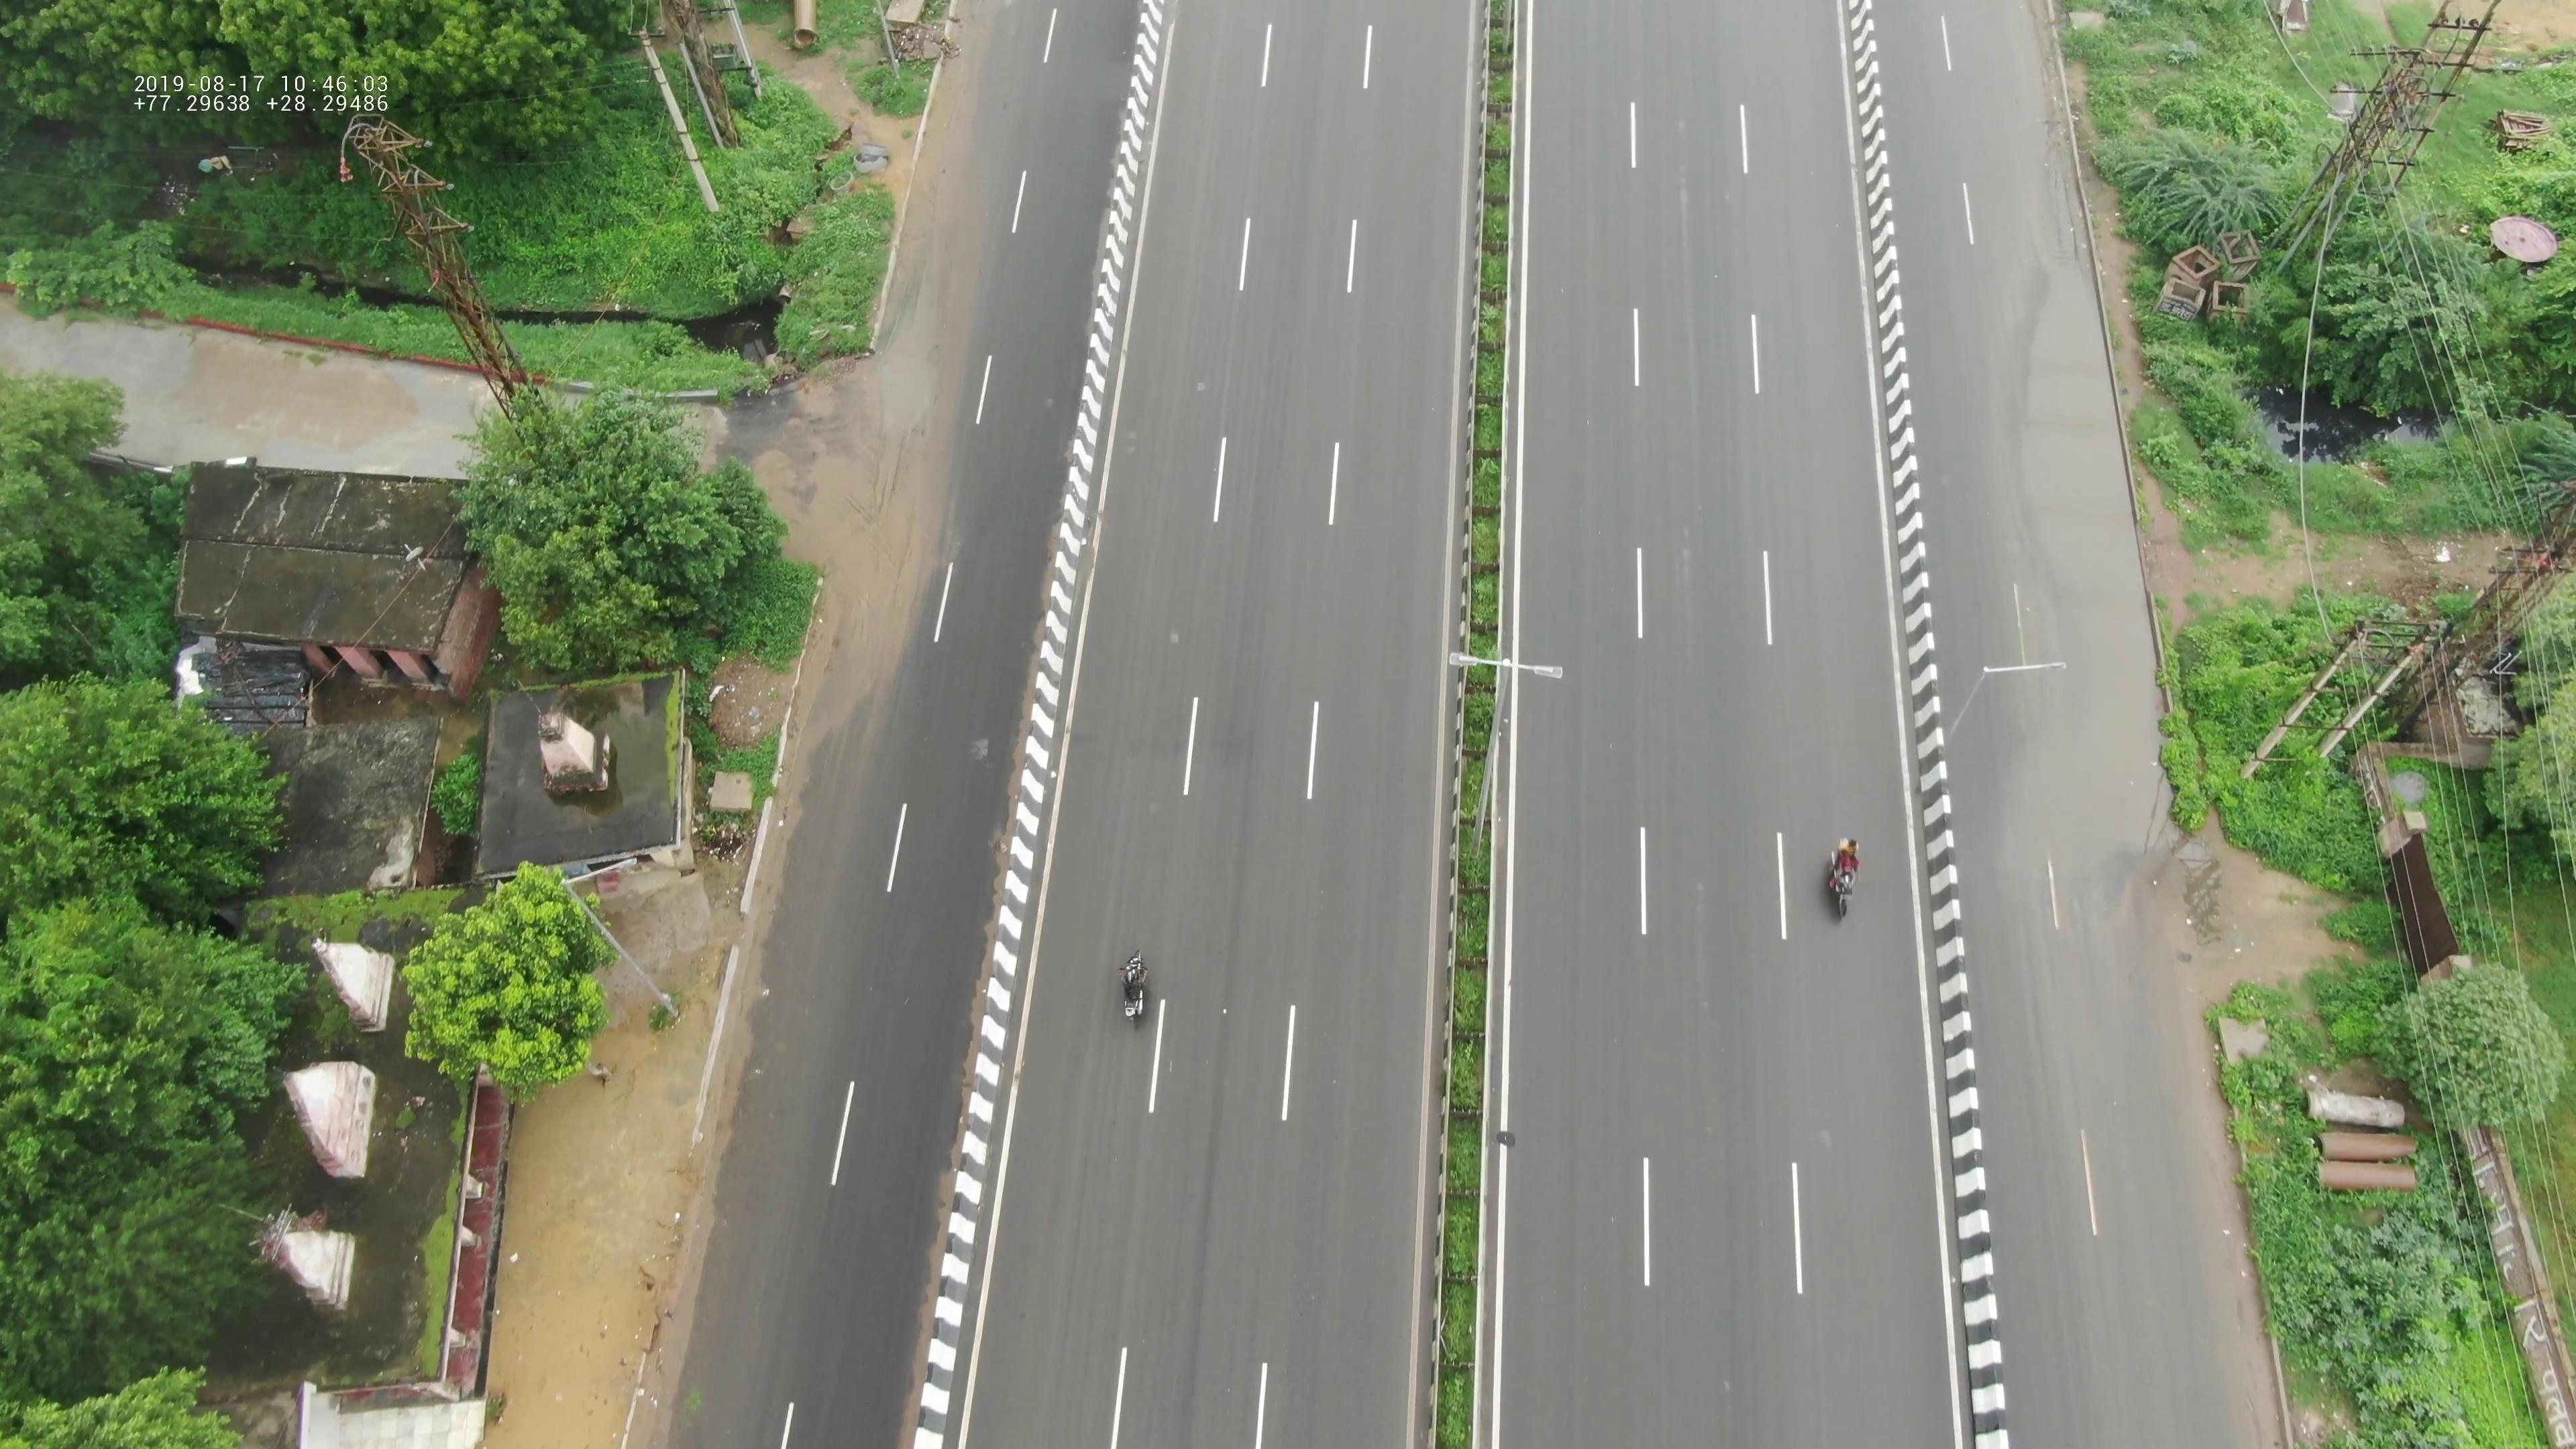Muddy_road: (828, 356, 957, 632)
